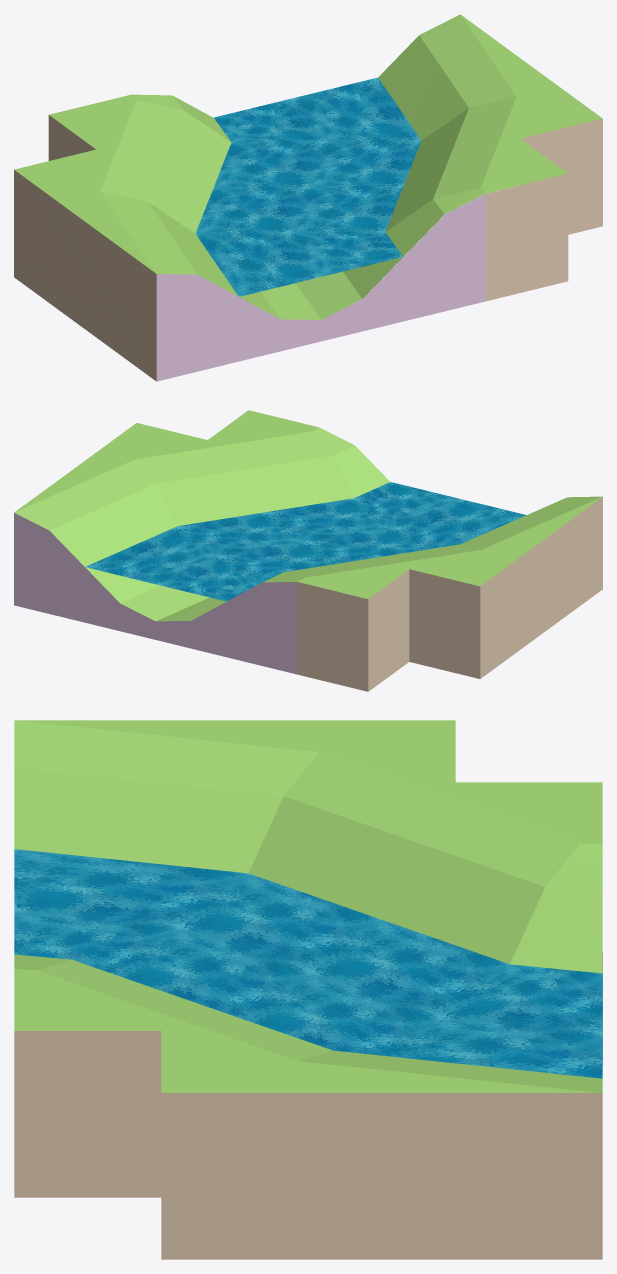
The model's file is River_Esse_Narrow_Sharp_Swerve_Right.glb.
The picture shows the model from 3 angles, top to bottom: view 1: azimuth 30°, elevation 25°; view 2: azimuth 150°, elevation 25°; view 3: azimuth 270°, elevation 25°; orthographic projection. The views are drawn at different scales.
Parts seen in each view (by area): view 1: Grass_Hill_Sharp_Esse_4x4 (×2), Terrain_Water_River_Esse_CW_4x4; view 2: Grass_Hill_Sharp_Esse_4x4 (×2), Terrain_Water_River_Esse_CW_4x4; view 3: Grass_Hill_Sharp_Esse_4x4 (×2), Terrain_Water_River_Esse_CW_4x4.
Boxes of the visible parts, <box> form: Grass_Hill_Sharp_Esse_4x4 (×2): <box>14,14,602,381</box>; Terrain_Water_River_Esse_CW_4x4: <box>195,77,421,296</box>; Grass_Hill_Sharp_Esse_4x4 (×2): <box>14,410,602,691</box>; Terrain_Water_River_Esse_CW_4x4: <box>85,482,526,601</box>; Grass_Hill_Sharp_Esse_4x4 (×2): <box>14,720,602,1259</box>; Terrain_Water_River_Esse_CW_4x4: <box>14,849,602,1078</box>.
Bounding box in the file's own units: 600 × 125 × 401.
6 materials, 1 textured.
